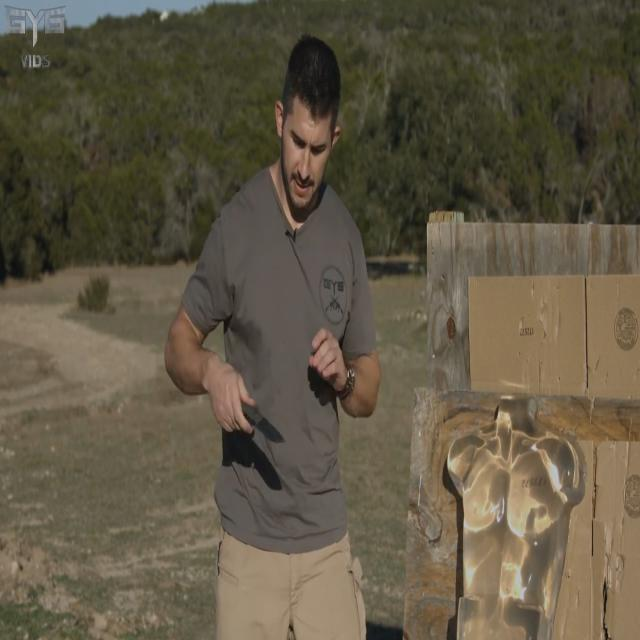knife: (240, 393, 290, 457)
